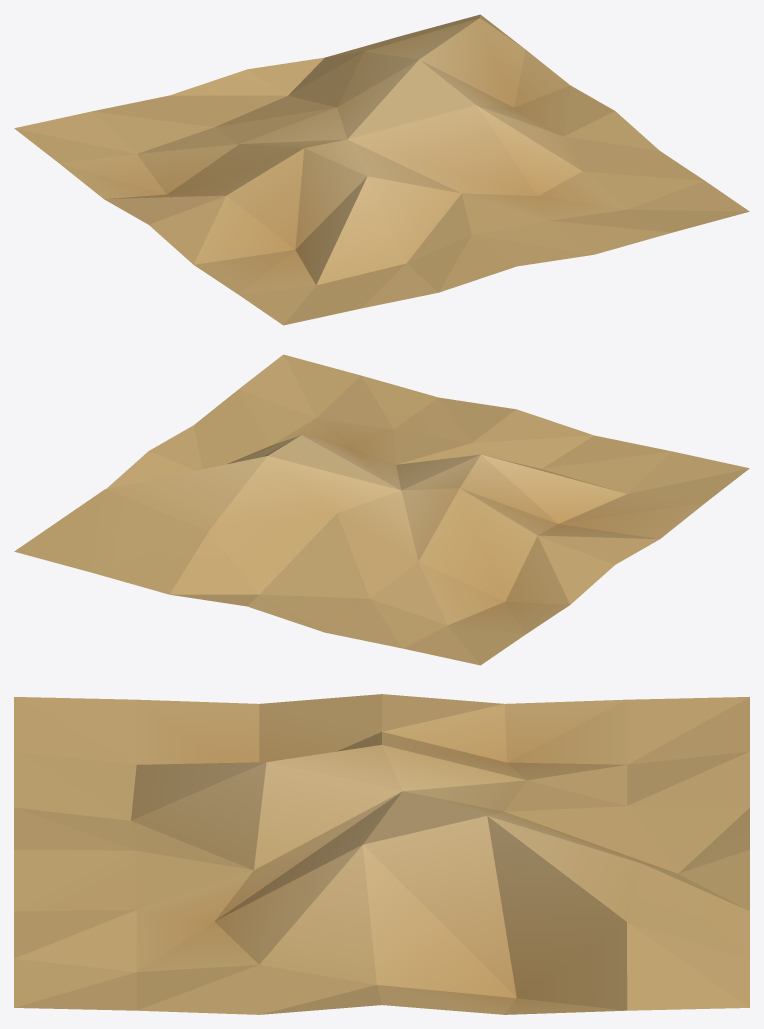
File: Mixed_Ground_09.fbx
3 renders of one model, top to bottom at view 1: azimuth 30°, elevation 25°; view 2: azimuth 150°, elevation 25°; view 3: azimuth 270°, elevation 25°, orthographic. The views are drawn at different scales.
Parts seen in each view (by area): view 1: Ground_09.001; view 2: Ground_09.001; view 3: Ground_09.001.
Part boxes in pixels (<box>): Ground_09.001: <box>14,14,749,325</box>; Ground_09.001: <box>14,354,749,665</box>; Ground_09.001: <box>14,694,749,1014</box>.
Bounding box in the file's own units: 1000 × 168 × 1000.
